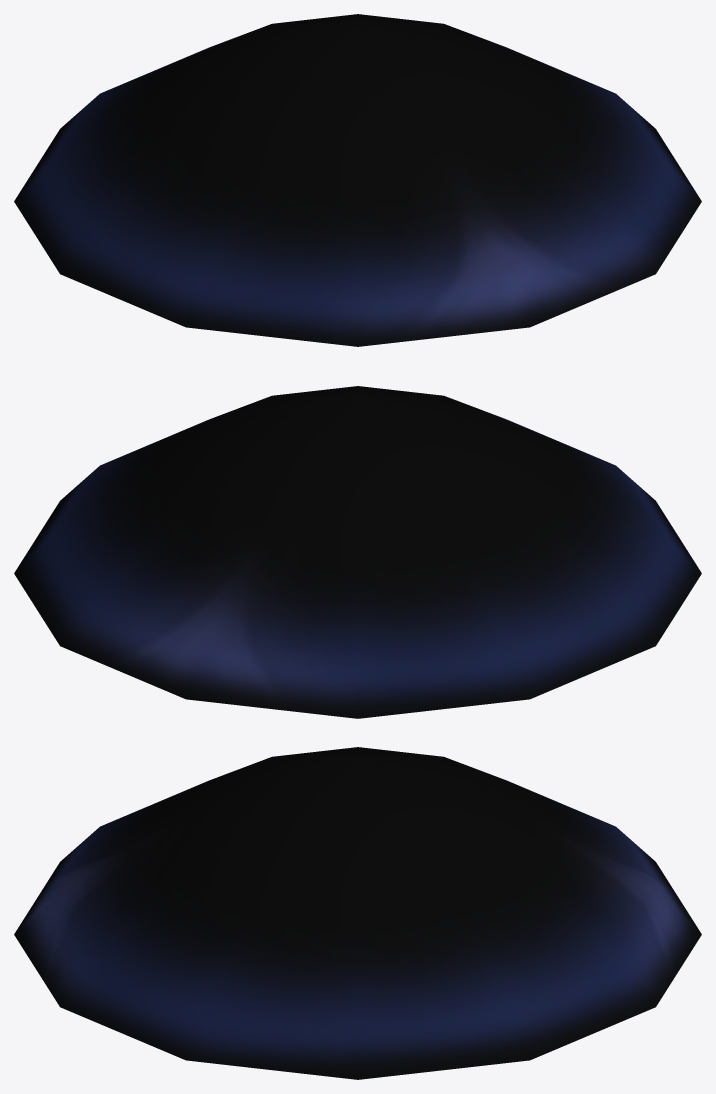
The model's file is Sky_Gephryophobia.obj.
3 renders of one model, top to bottom at view 1: azimuth 30°, elevation 25°; view 2: azimuth 150°, elevation 25°; view 3: azimuth 270°, elevation 25°, orthographic.
Visible parts, largest first — view 1: _02_sky; view 2: _02_sky; view 3: _02_sky.
Boxes of the visible parts, bbox=[...] form: _02_sky: bbox=[14, 14, 701, 346]; _02_sky: bbox=[14, 386, 701, 718]; _02_sky: bbox=[14, 747, 701, 1079].
Bounding box in the file's own units: 1.11e+07 × 3647671 × 1.11e+07.
